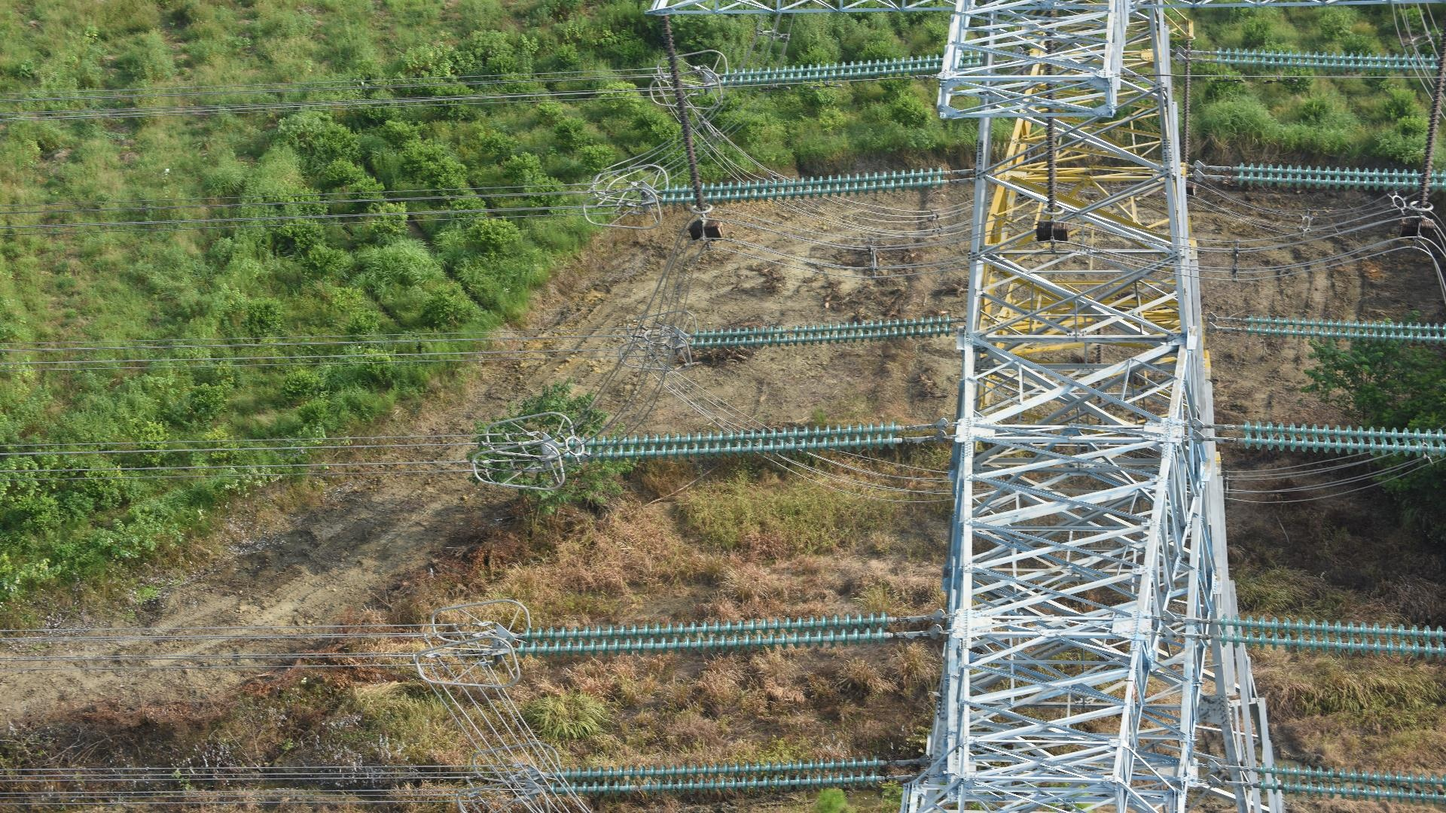insulator: (514, 607, 892, 661), (560, 418, 900, 467), (548, 754, 883, 799), (656, 163, 947, 210), (1216, 610, 1446, 664), (686, 311, 953, 355), (1238, 416, 1446, 463), (1255, 758, 1446, 808), (660, 11, 707, 209), (717, 50, 943, 90), (1233, 158, 1446, 196), (1240, 311, 1446, 350), (1212, 44, 1442, 78), (1414, 58, 1446, 206), (1040, 8, 1062, 212), (1176, 38, 1195, 162), (1095, 326, 1106, 364)
